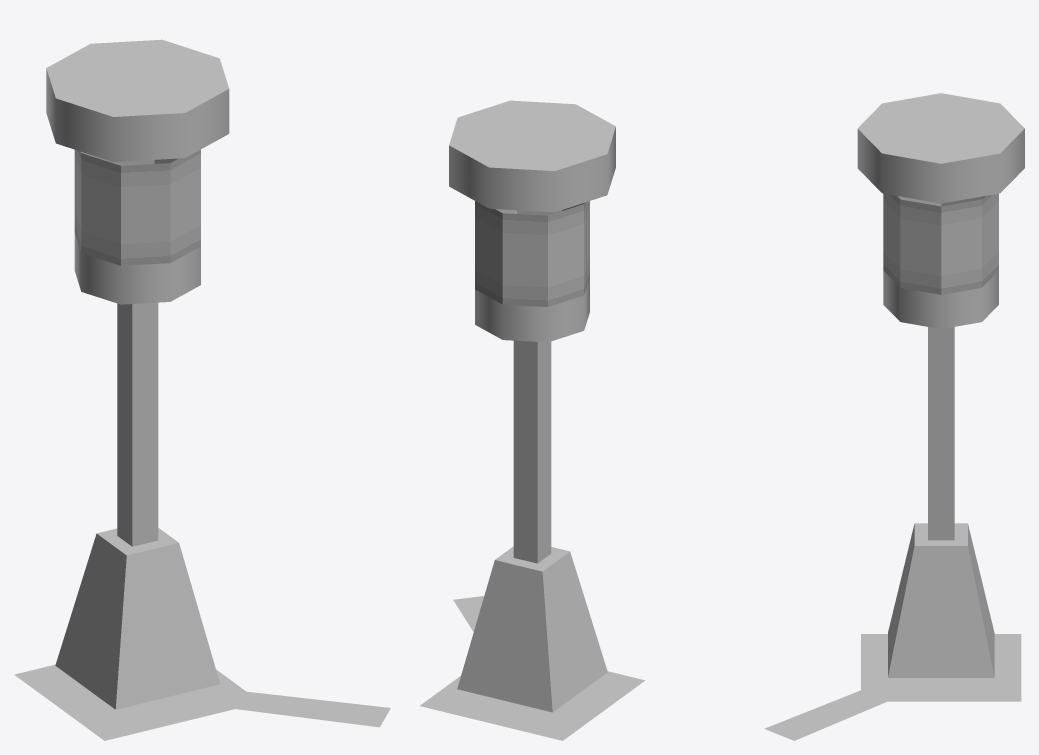
The model's file is Goldenrod City Station.obj.
3 renders of one model, left to right at view 1: azimuth 30°, elevation 25°; view 2: azimuth 150°, elevation 25°; view 3: azimuth 270°, elevation 25°, orthographic. The views are drawn at different scales.
Visible parts, largest first — view 1: polygon2, polygon1; view 2: polygon2, polygon1; view 3: polygon2, polygon1.
Boxes of the visible parts, <box> form: polygon2: <box>14,39,390,740</box>; polygon1: <box>74,149,200,265</box>; polygon2: <box>420,100,644,740</box>; polygon1: <box>475,201,589,306</box>; polygon2: <box>764,93,1024,740</box>; polygon1: <box>883,193,998,294</box>.
Bounding box in the file's own units: 22.6 × 49.57 × 19.54.
